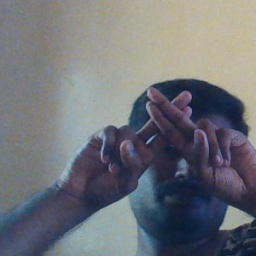F: (117, 79, 223, 184)
